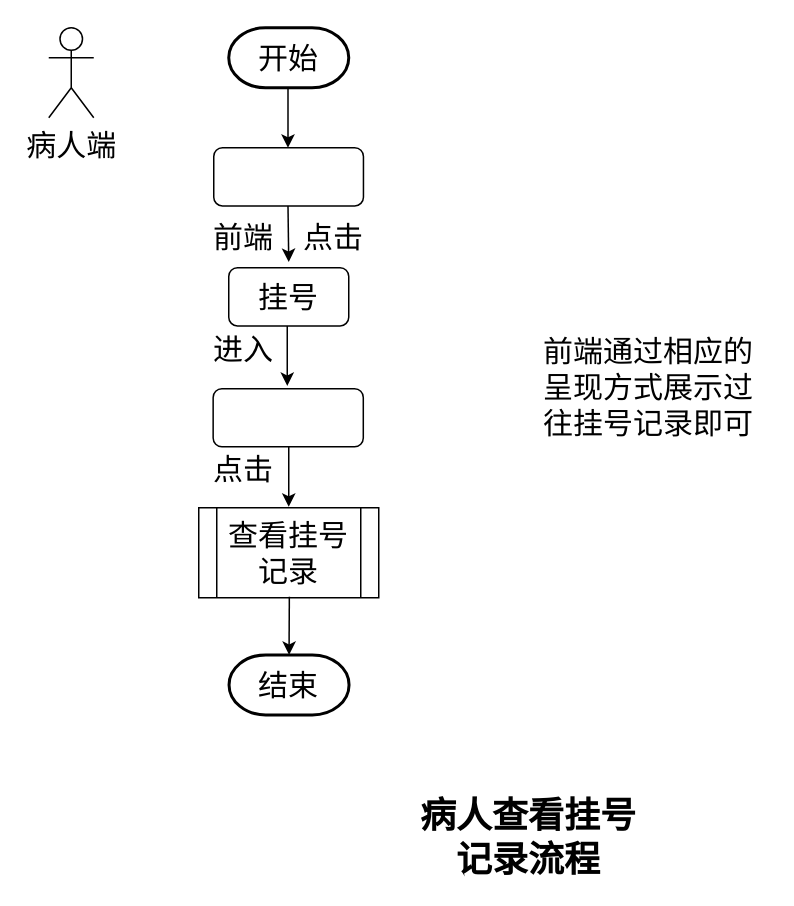
Some shapes in this 794 by 906 pixel diagram are drawn without their labels. The centre of each missing label's shape, as x and y in pixels:
"导航页面" belongs at point 287,176.
"挂号页面" belongs at point 287,417.
